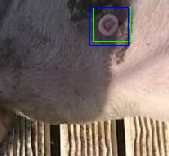text: (93, 7, 130, 41)
